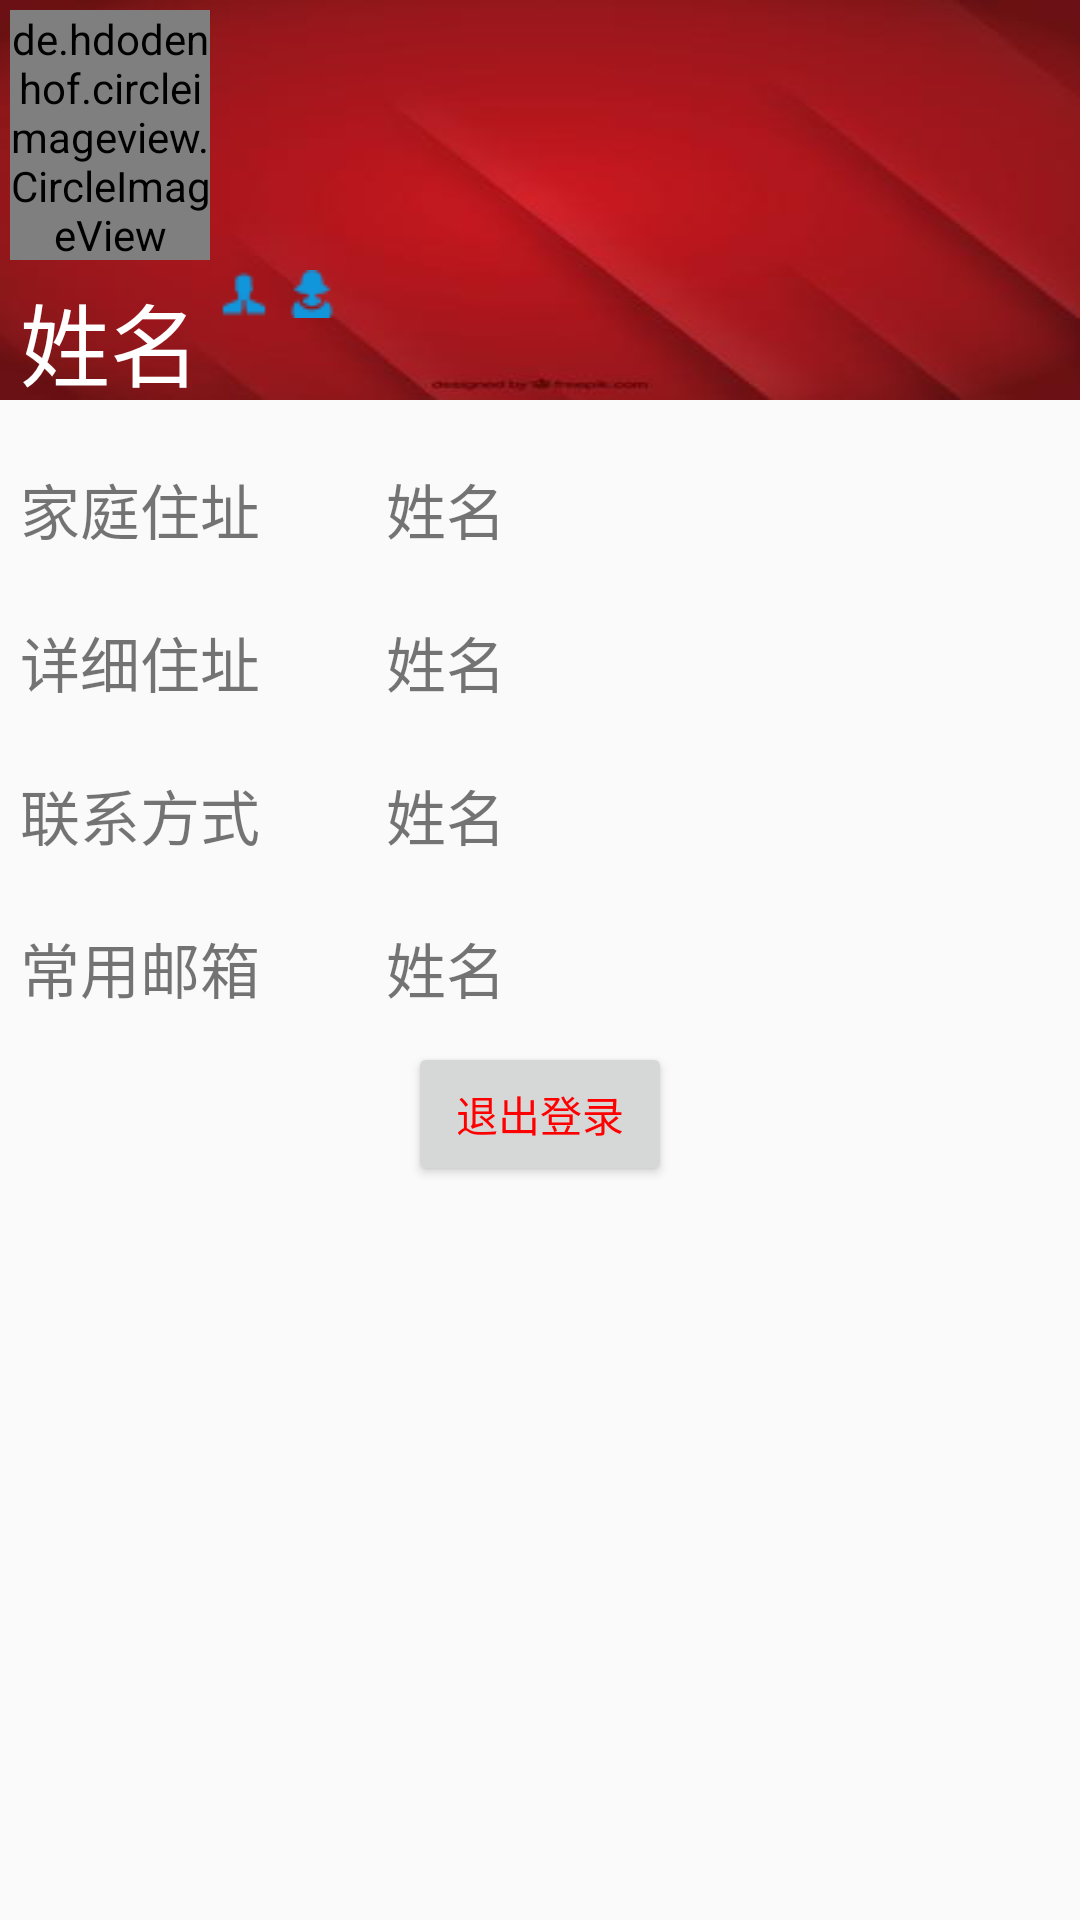

Icon bounding boxes for this 1080 × 1920 phone screenshot, format bbox=[x1, y1, x2, y2]:
man: bbox=[222, 272, 266, 316]
woman: bbox=[290, 270, 334, 318]
